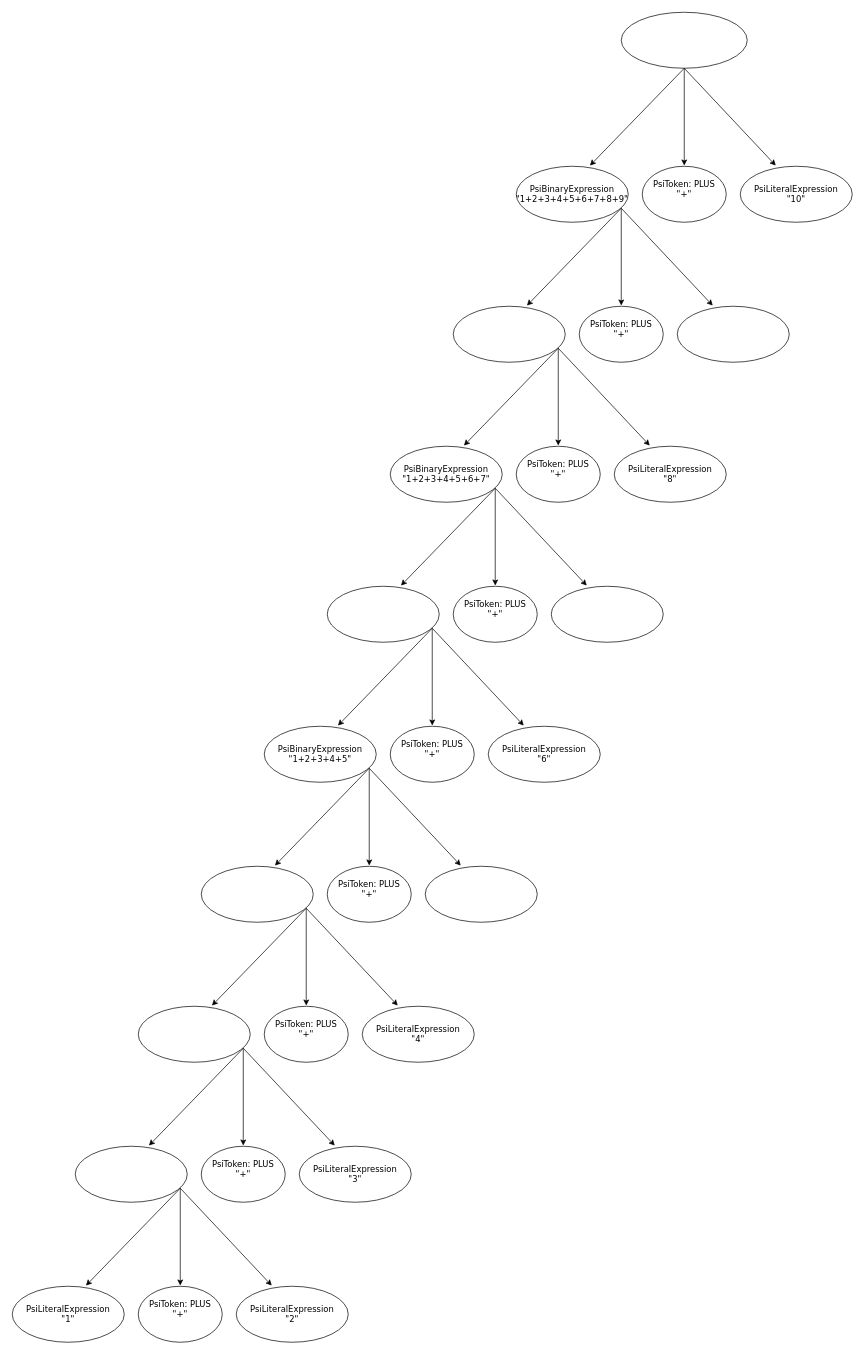
This 865x1355 diagram has some shape labels left out. Here are the shapes that lost their labels. From the top down, the centre of each, then its label:
point (684, 40): PsiBinaryExpression "1+2+3+4+5+6+7+8+9+10"
point (509, 334): PsiBinaryExpression "1+2+3+4+5+6+7+8"
point (733, 334): PsiLiteralExpression "9"
point (383, 614): PsiBinaryExpression "1+2+3+4+5+6"
point (607, 614): PsiLiteralExpression "7"
point (257, 894): PsiBinaryExpression "1+2+3+4"
point (481, 894): PsiLiteralExpression "5"
point (194, 1034): PsiBinaryExpression "1 + 2 + 3"
point (131, 1174): PsiBinaryExpression "1 + 2"
